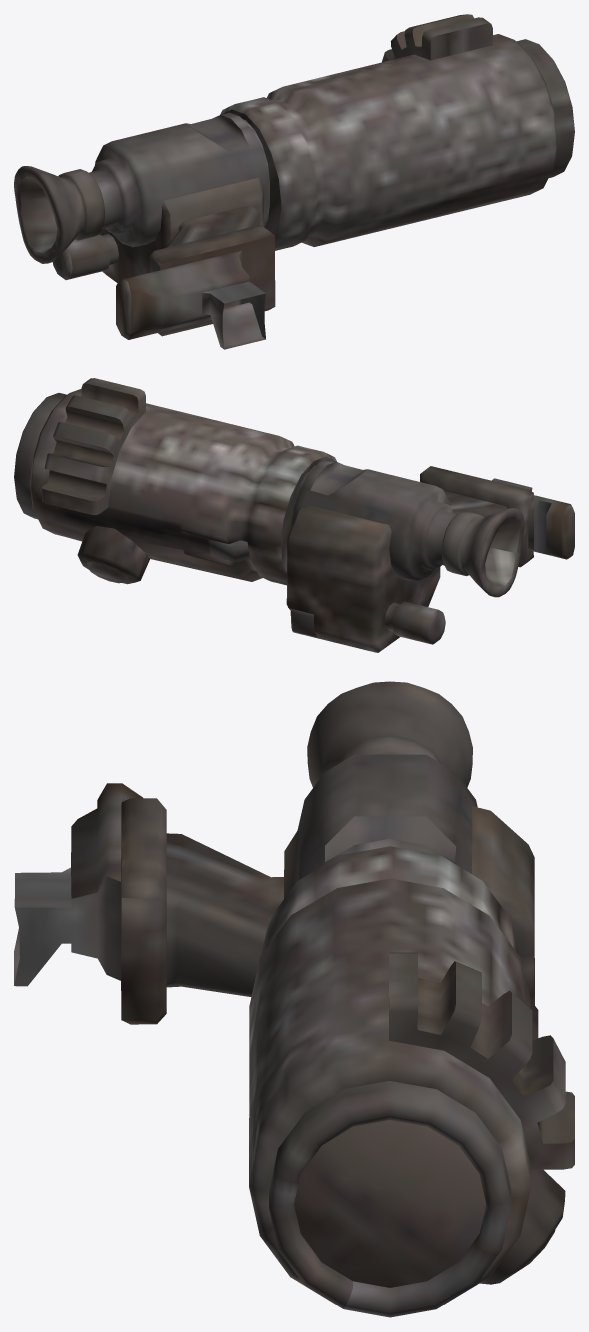
File: HeavyWeapons_Vladof_Scope_3.obj
3 views of the same model, one above another, from view 1: azimuth 30°, elevation 25°; view 2: azimuth 150°, elevation 25°; view 3: azimuth 270°, elevation 25° (orthographic). The views are drawn at different scales.
Visible parts, largest first — view 1: Scope_3_telescope_SK_HW_VLA.479, Scope_3_eyepiece_SK_HW_VLA.481, Scope_3_support_SK_HW_VLA.478, Scope_3_ridge_SK_HW_VLA.482, Scope_3_knob_SK_HW_VLA.480; view 2: Scope_3_telescope_SK_HW_VLA.479, Scope_3_eyepiece_SK_HW_VLA.481, Scope_3_ridge_SK_HW_VLA.482, Scope_3_support_SK_HW_VLA.478, Scope_3_knob_SK_HW_VLA.480; view 3: Scope_3_telescope_SK_HW_VLA.479, Scope_3_support_SK_HW_VLA.478, Scope_3_eyepiece_SK_HW_VLA.481, Scope_3_ridge_SK_HW_VLA.482.
Part boxes in pixels (x1,y1,x2,y2): Scope_3_telescope_SK_HW_VLA.479: (220,34,574,250); Scope_3_eyepiece_SK_HW_VLA.481: (14,112,269,282); Scope_3_support_SK_HW_VLA.478: (116,205,275,349); Scope_3_ridge_SK_HW_VLA.482: (382,14,492,62); Scope_3_knob_SK_HW_VLA.480: (52,234,118,279); Scope_3_telescope_SK_HW_VLA.479: (14,388,336,585); Scope_3_eyepiece_SK_HW_VLA.481: (286,459,524,652); Scope_3_ridge_SK_HW_VLA.482: (42,378,145,515); Scope_3_support_SK_HW_VLA.478: (420,466,574,567); Scope_3_knob_SK_HW_VLA.480: (384,601,445,644); Scope_3_telescope_SK_HW_VLA.479: (249,846,565,1317); Scope_3_support_SK_HW_VLA.478: (14,783,283,1024); Scope_3_eyepiece_SK_HW_VLA.481: (284,681,534,1004); Scope_3_ridge_SK_HW_VLA.482: (389,952,574,1169).
Size of the model in its own units: 27.39 by 9.9 by 15.29.
